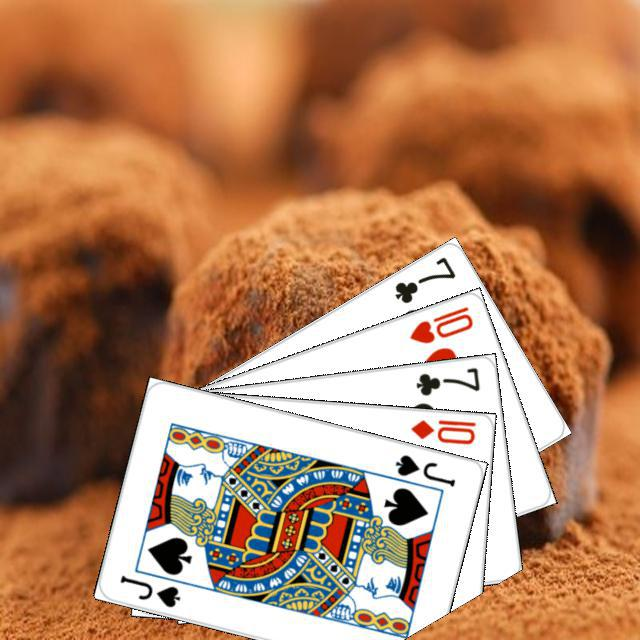10d: (406, 414, 478, 446)
10h: (404, 301, 475, 346)
7c: (389, 251, 458, 306), (411, 362, 482, 398)
Js: (390, 449, 457, 488), (115, 570, 182, 609)
